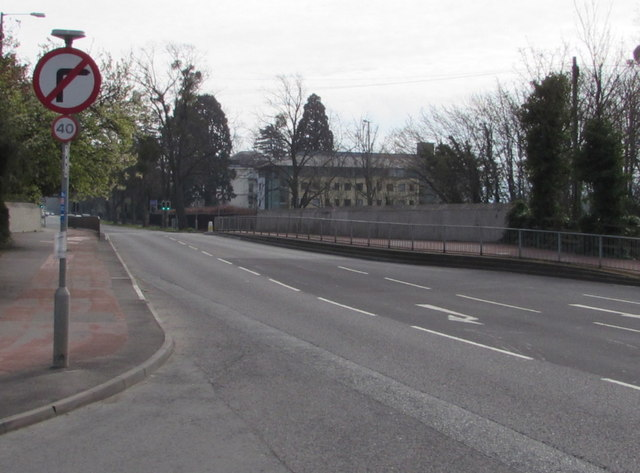No_right_turn: (33, 48, 102, 114)
Speed_limit_40km: (50, 116, 79, 142)
